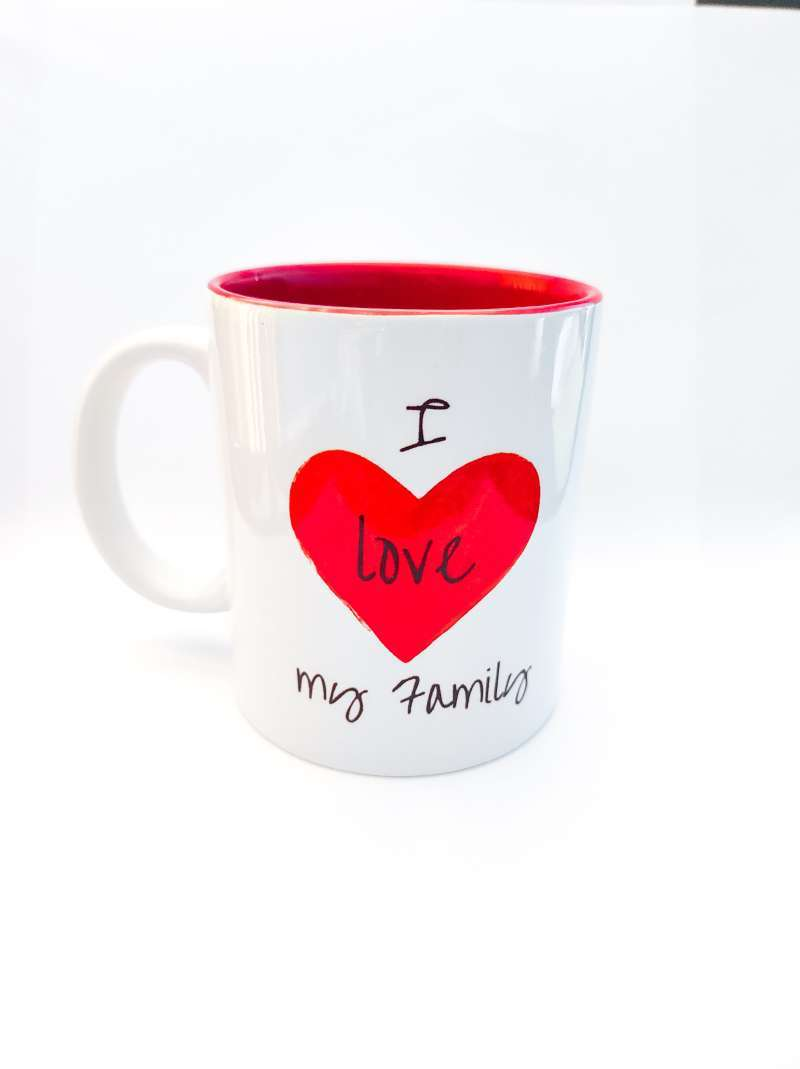gelas: (58, 237, 611, 779)
